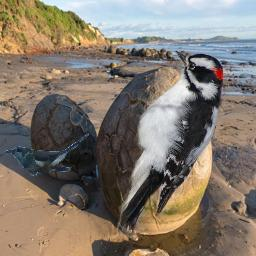Cuckoo: (4, 133, 91, 176)
Woodpecker: (115, 48, 223, 238)
